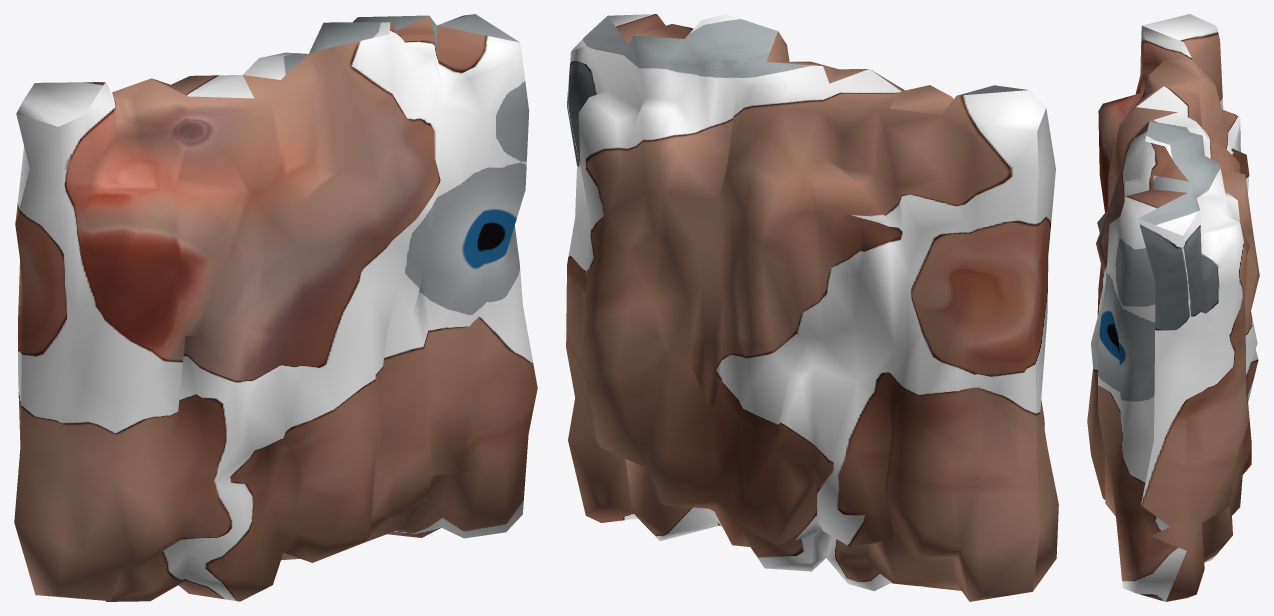
The model's file is caveWall1_colliderMeshes.fbx.
3 renders of one model, left to right at view 1: azimuth 30°, elevation 25°; view 2: azimuth 150°, elevation 25°; view 3: azimuth 270°, elevation 25°, orthographic. The views are drawn at different scales.
Parts seen in each view (by area): view 1: wallMesh1_colliderMesh_B, wallMesh1_colliderMesh_A; view 2: wallMesh1_colliderMesh_A, wallMesh1_colliderMesh_B; view 3: wallMesh1_colliderMesh_A, wallMesh1_colliderMesh_B.
Part boxes in pixels (x1,y1,x2,y2): wallMesh1_colliderMesh_B: (14, 16, 537, 601); wallMesh1_colliderMesh_A: (15, 14, 519, 441); wallMesh1_colliderMesh_A: (566, 14, 1046, 601); wallMesh1_colliderMesh_B: (608, 14, 1058, 590); wallMesh1_colliderMesh_A: (1136, 14, 1259, 601); wallMesh1_colliderMesh_B: (1087, 26, 1201, 601).
Bounding box in the file's own units: 2181 × 2220 × 831.
